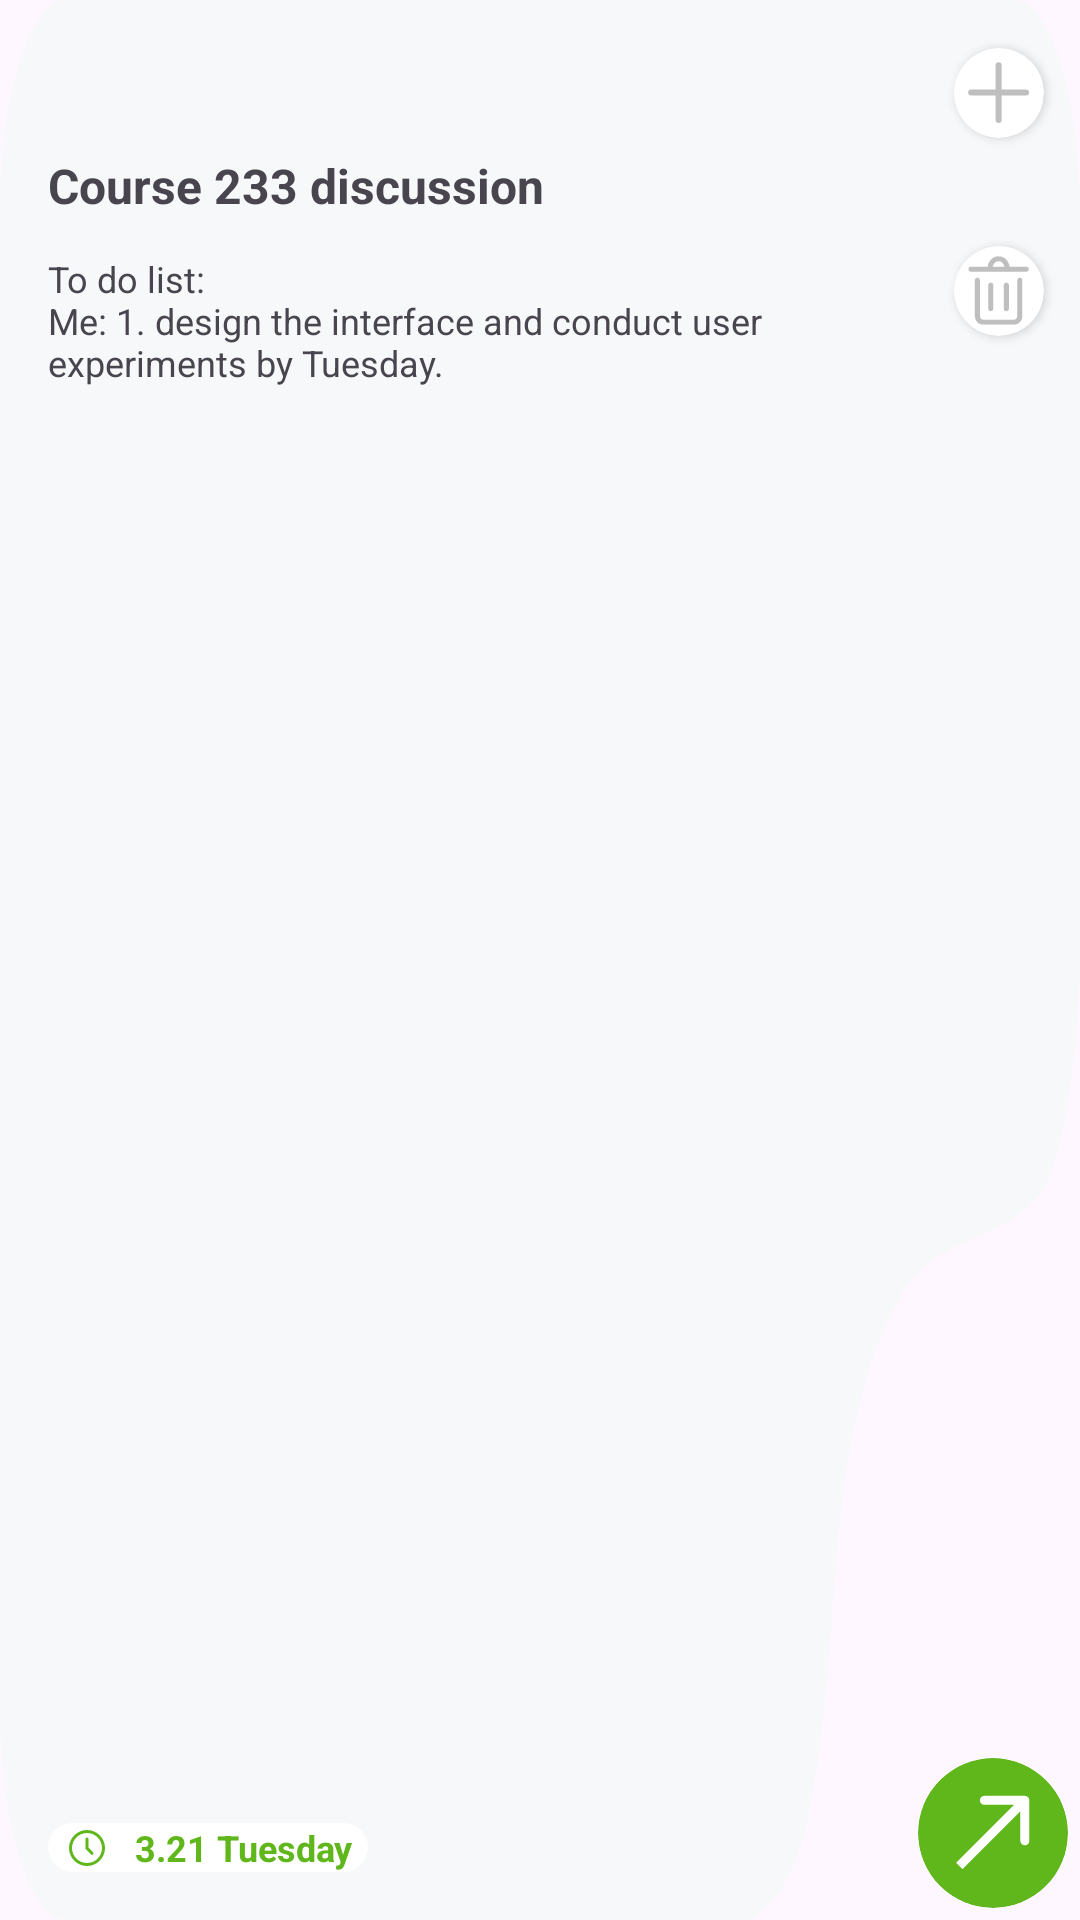

Icons on this 1080 x 1920 Android screen, each with the point to tap as (x=x, y=y):
add tag: (x=998, y=92)
delete note: (x=998, y=290)
time: (x=87, y=1848)
